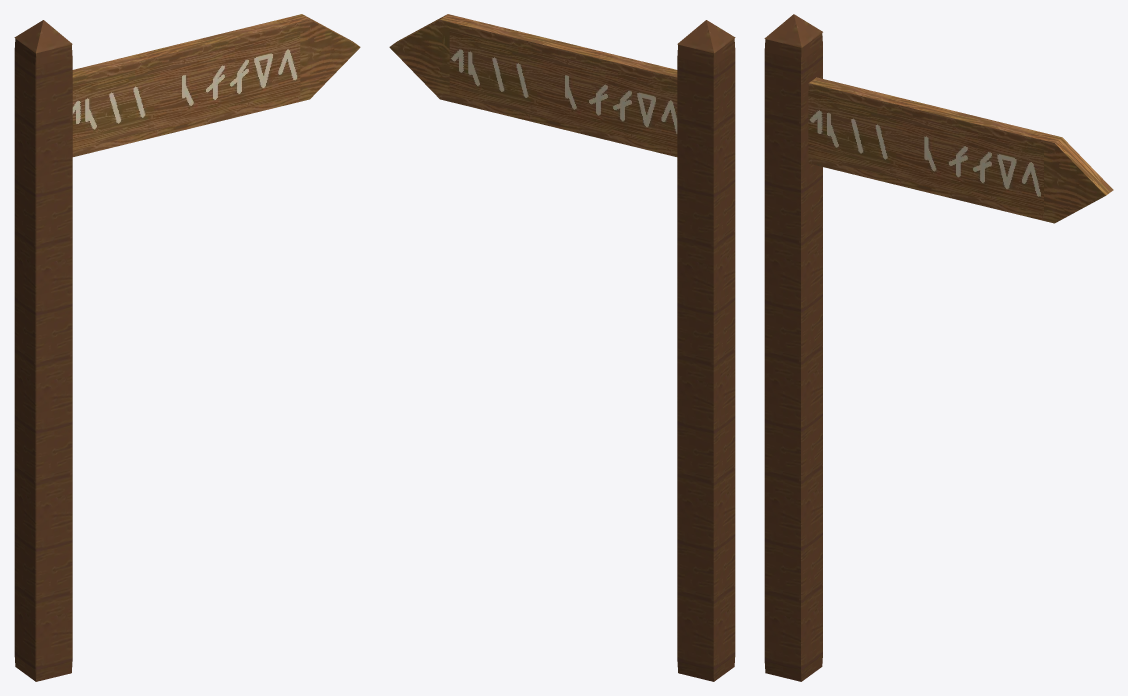
File: sign1.glb
The picture shows the model from 3 angles, left to right: view 1: azimuth 30°, elevation 25°; view 2: azimuth 150°, elevation 25°; view 3: azimuth 330°, elevation 25°; orthographic projection.
Visible parts, largest first — view 1: box; view 2: box; view 3: box.
Part boxes in pixels (x1,y1,x2,y2): box: [14, 14, 360, 681]; box: [389, 14, 735, 681]; box: [764, 14, 1113, 681].
Size of the model in its own units: 1.03 by 1.93 by 0.1157.
4 materials, 4 textured.
